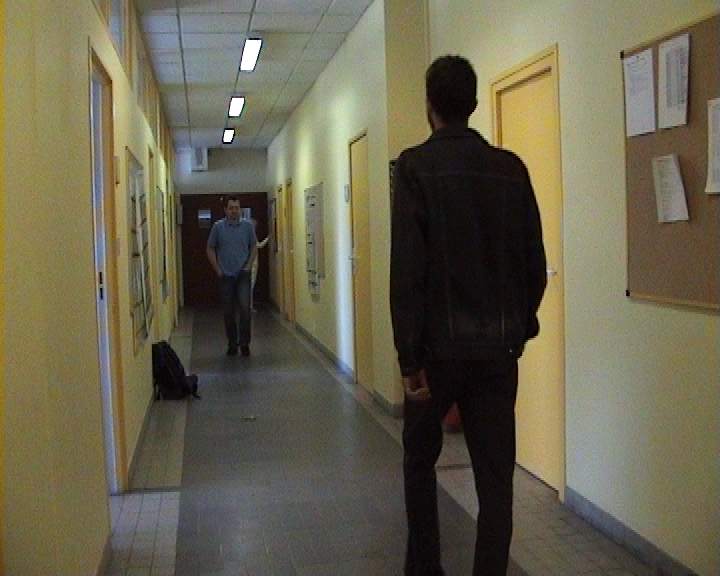leave bag unattended: (142, 328, 216, 424)
